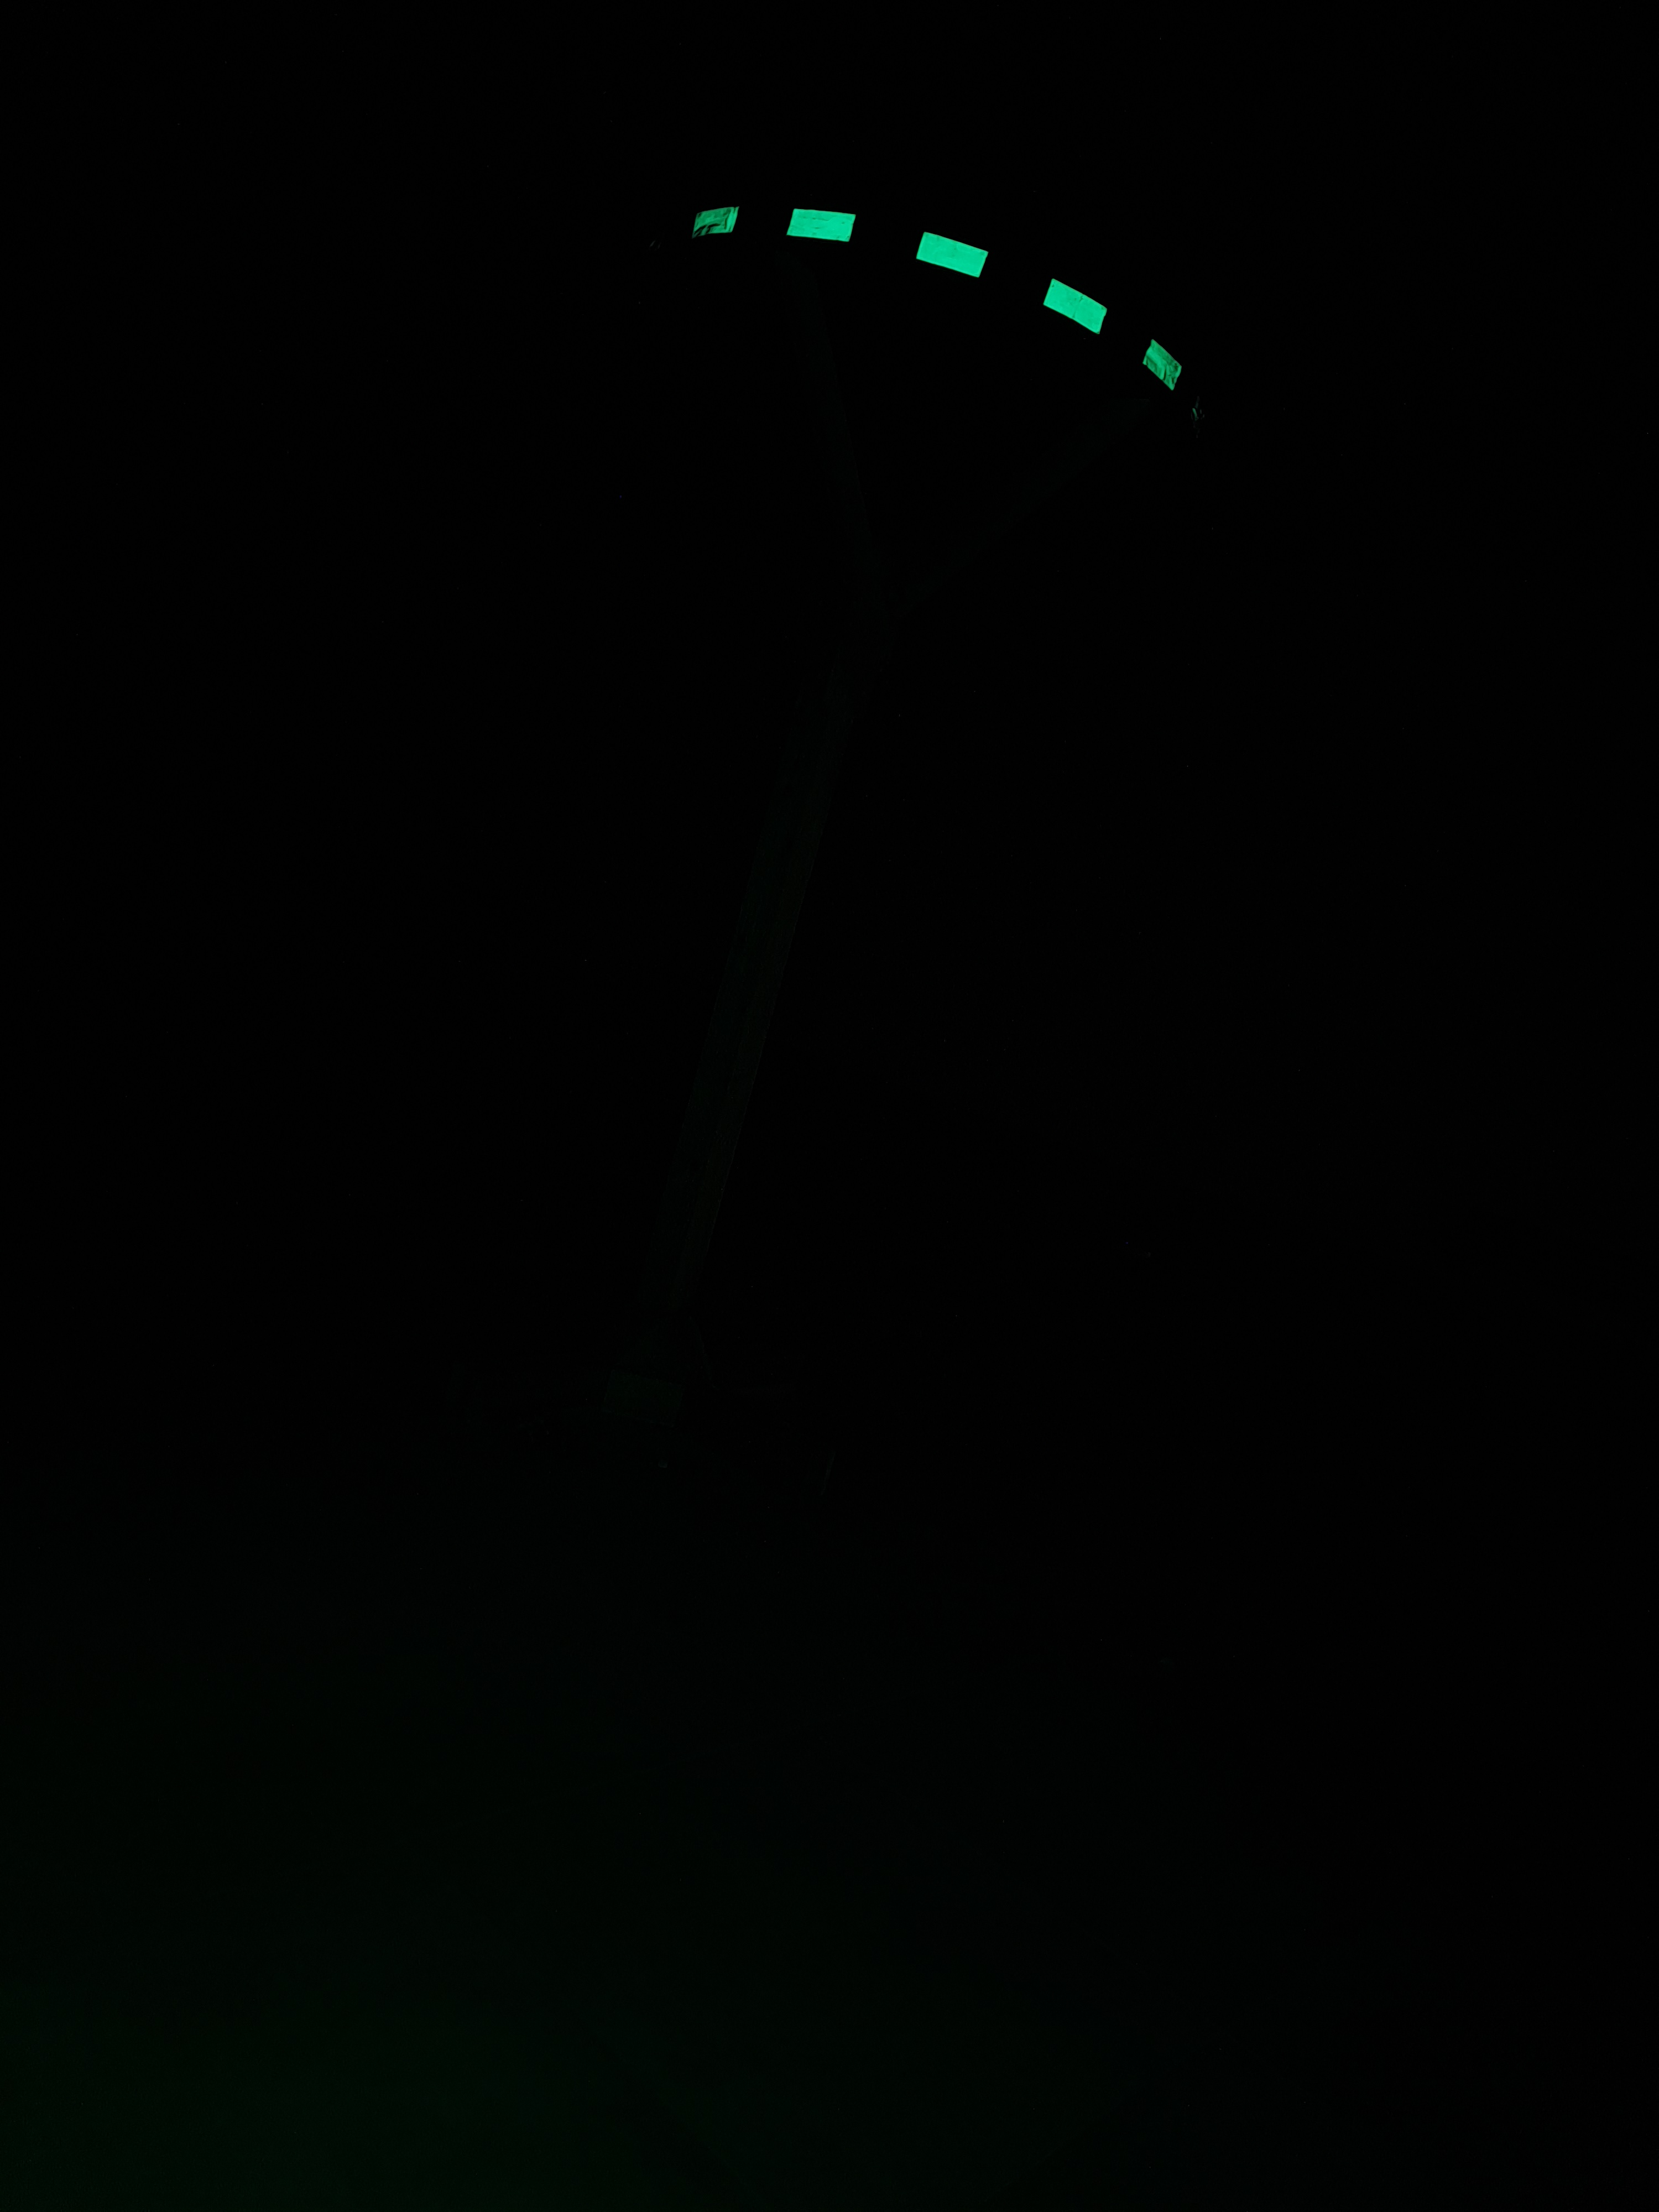hoop: (688, 200, 1190, 395)
